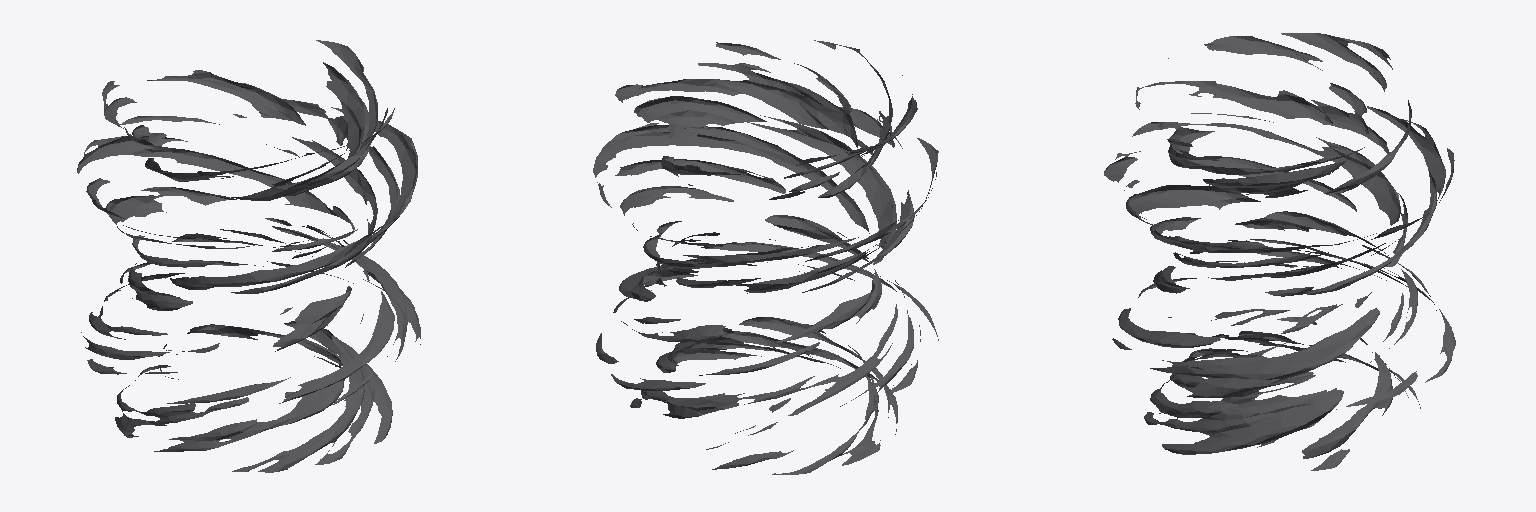
Rendered from TornadoCylinder2.obj.
3 renders of one model, left to right at view 1: azimuth 30°, elevation 25°; view 2: azimuth 150°, elevation 25°; view 3: azimuth 270°, elevation 25°, orthographic.
Visible parts, largest first — view 1: Wind1; view 2: Wind1; view 3: Wind1.
Boxes of the visible parts, box(x1,y1,x2,y2) form: Wind1: box(77, 40, 420, 472); Wind1: box(593, 40, 938, 474); Wind1: box(1104, 33, 1455, 470).
Bounding box in the file's own units: 9.87 × 9.87 × 9.87.